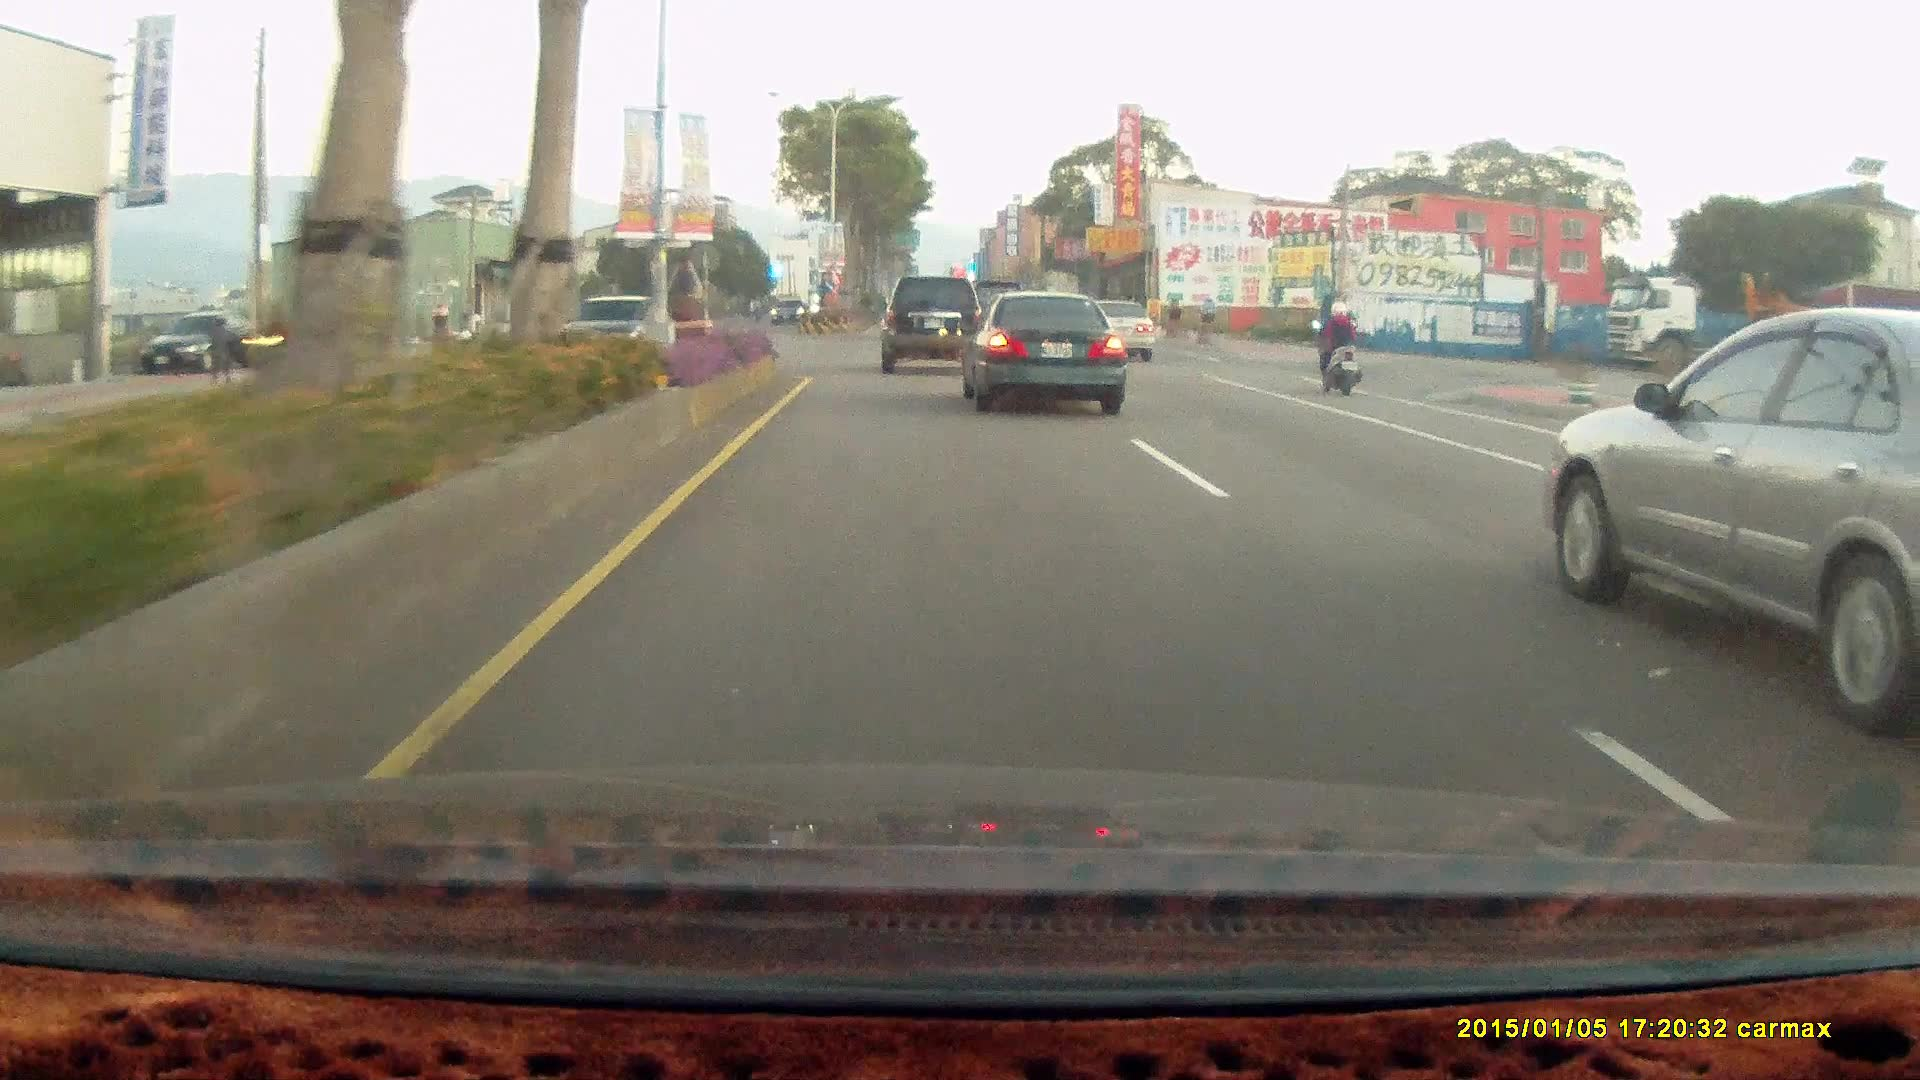pedestrian: (207, 314, 235, 385)
rider: (1303, 293, 1370, 405), (1308, 292, 1364, 389)
vehicle: (1541, 308, 1920, 738), (1603, 273, 1920, 371), (951, 290, 1119, 413), (966, 293, 1131, 415), (880, 274, 988, 374), (879, 275, 982, 373), (556, 290, 673, 372), (132, 310, 240, 377), (138, 313, 246, 376), (1074, 298, 1158, 365), (769, 298, 808, 325)
